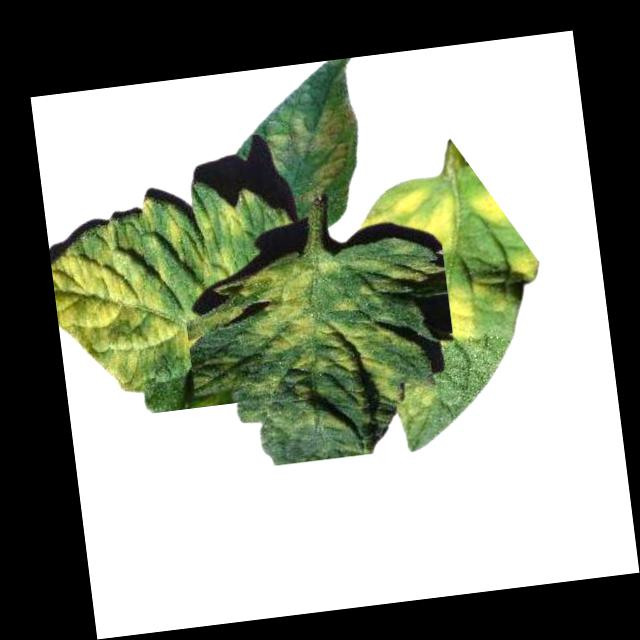Leaf_Mold: (46, 190, 273, 402), (235, 237, 448, 419), (264, 95, 366, 205), (352, 175, 460, 261), (444, 279, 481, 342), (466, 183, 510, 228), (509, 241, 542, 281)
